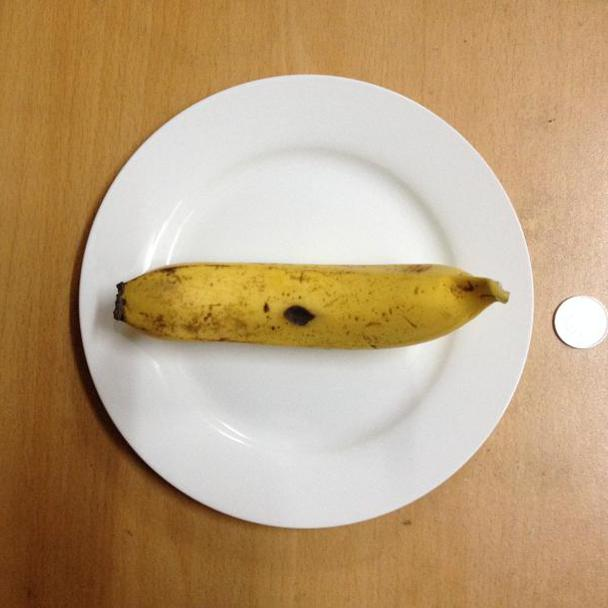banana: (106, 249, 518, 371)
